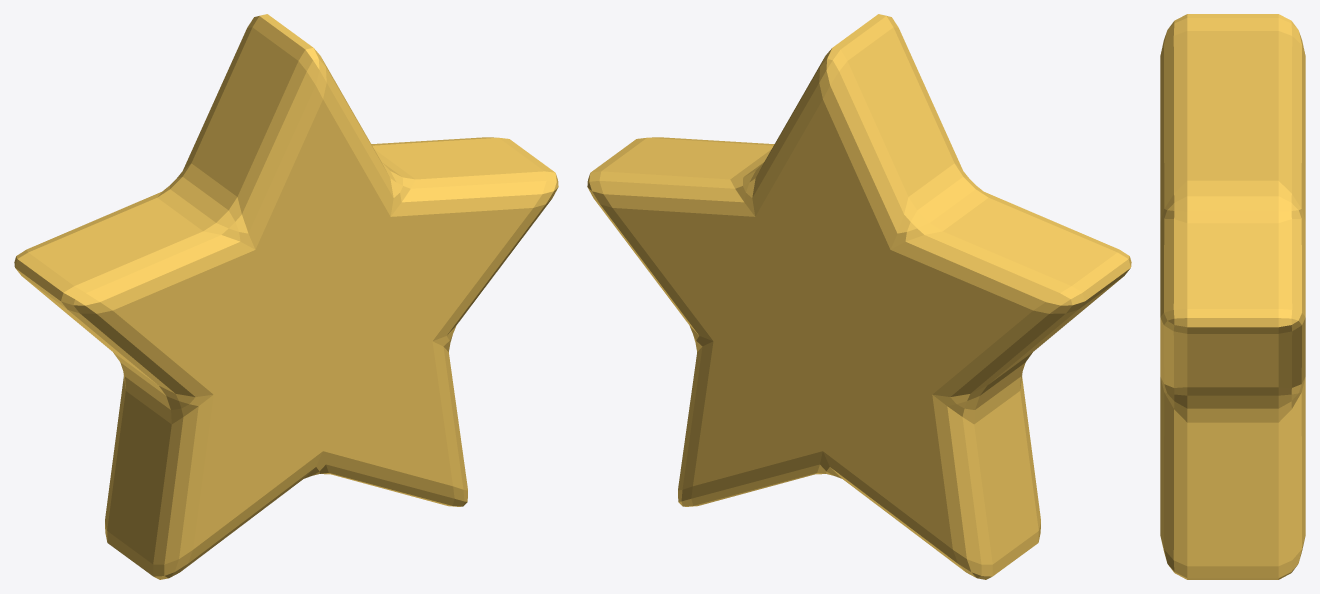
File: BE_PowerStar_Body.fbx
3 renders of one model, left to right at view 1: azimuth 30°, elevation 25°; view 2: azimuth 150°, elevation 25°; view 3: azimuth 270°, elevation 25°, orthographic.
Parts seen in each view (by area): view 1: BE_PowerStar_Body; view 2: BE_PowerStar_Body; view 3: BE_PowerStar_Body.
Boxes of the visible parts, x1,y1,x2,y2 form: BE_PowerStar_Body: (14, 14, 558, 579); BE_PowerStar_Body: (587, 14, 1131, 579); BE_PowerStar_Body: (1160, 14, 1305, 579).
Size of the model in its own units: 275 by 261 by 70.
